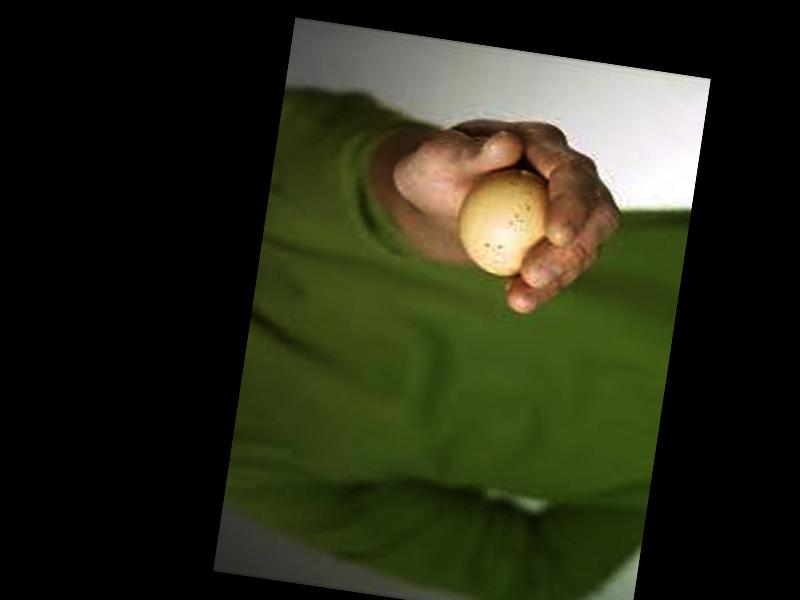Eggs: (452, 162, 555, 282)
